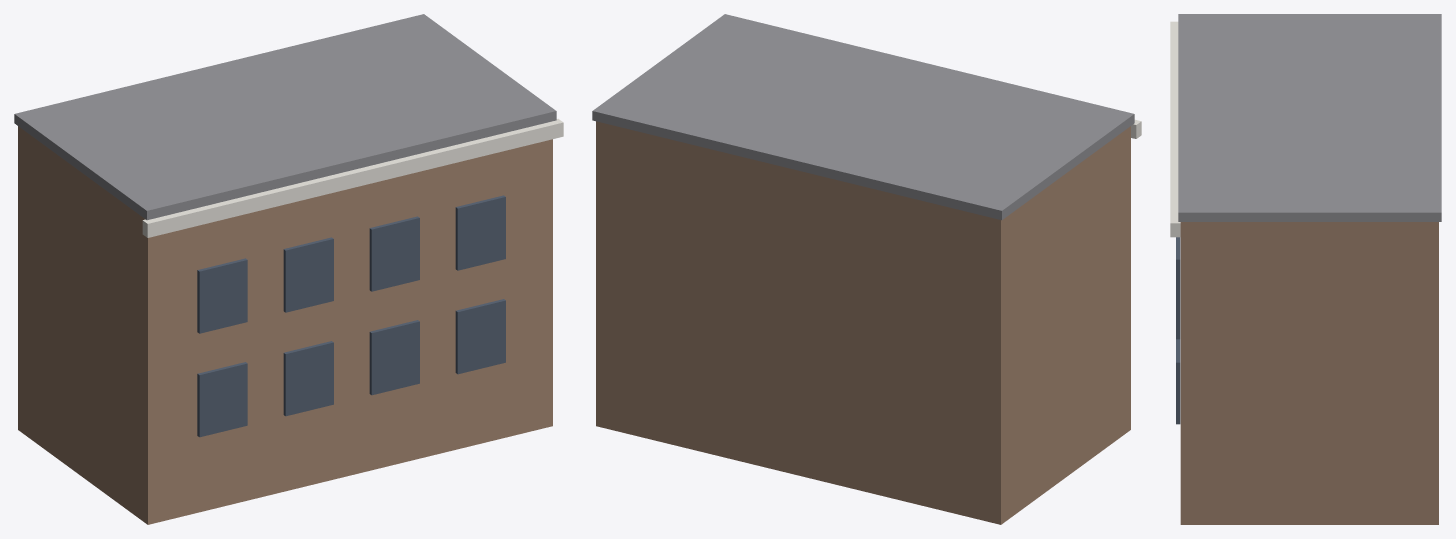
The model's file is Facade_Short.glb.
The picture shows the model from 3 angles, left to right: view 1: azimuth 30°, elevation 25°; view 2: azimuth 150°, elevation 25°; view 3: azimuth 270°, elevation 25°; orthographic projection.
Parts seen in each view (by area): view 1: Facade_Short; view 2: Facade_Short; view 3: Facade_Short.
Part boxes in pixels (box(x1,y1,x2,y2)): Facade_Short: box(14, 14, 563, 524); Facade_Short: box(592, 14, 1141, 524); Facade_Short: box(1170, 14, 1441, 524).
Size of the model in its own units: 9.24 by 6.7 by 5.25.
